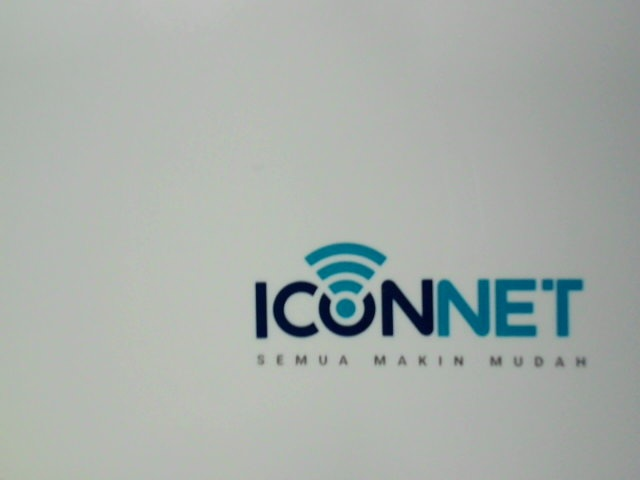BM_ICONNET: (237, 230, 596, 378)
